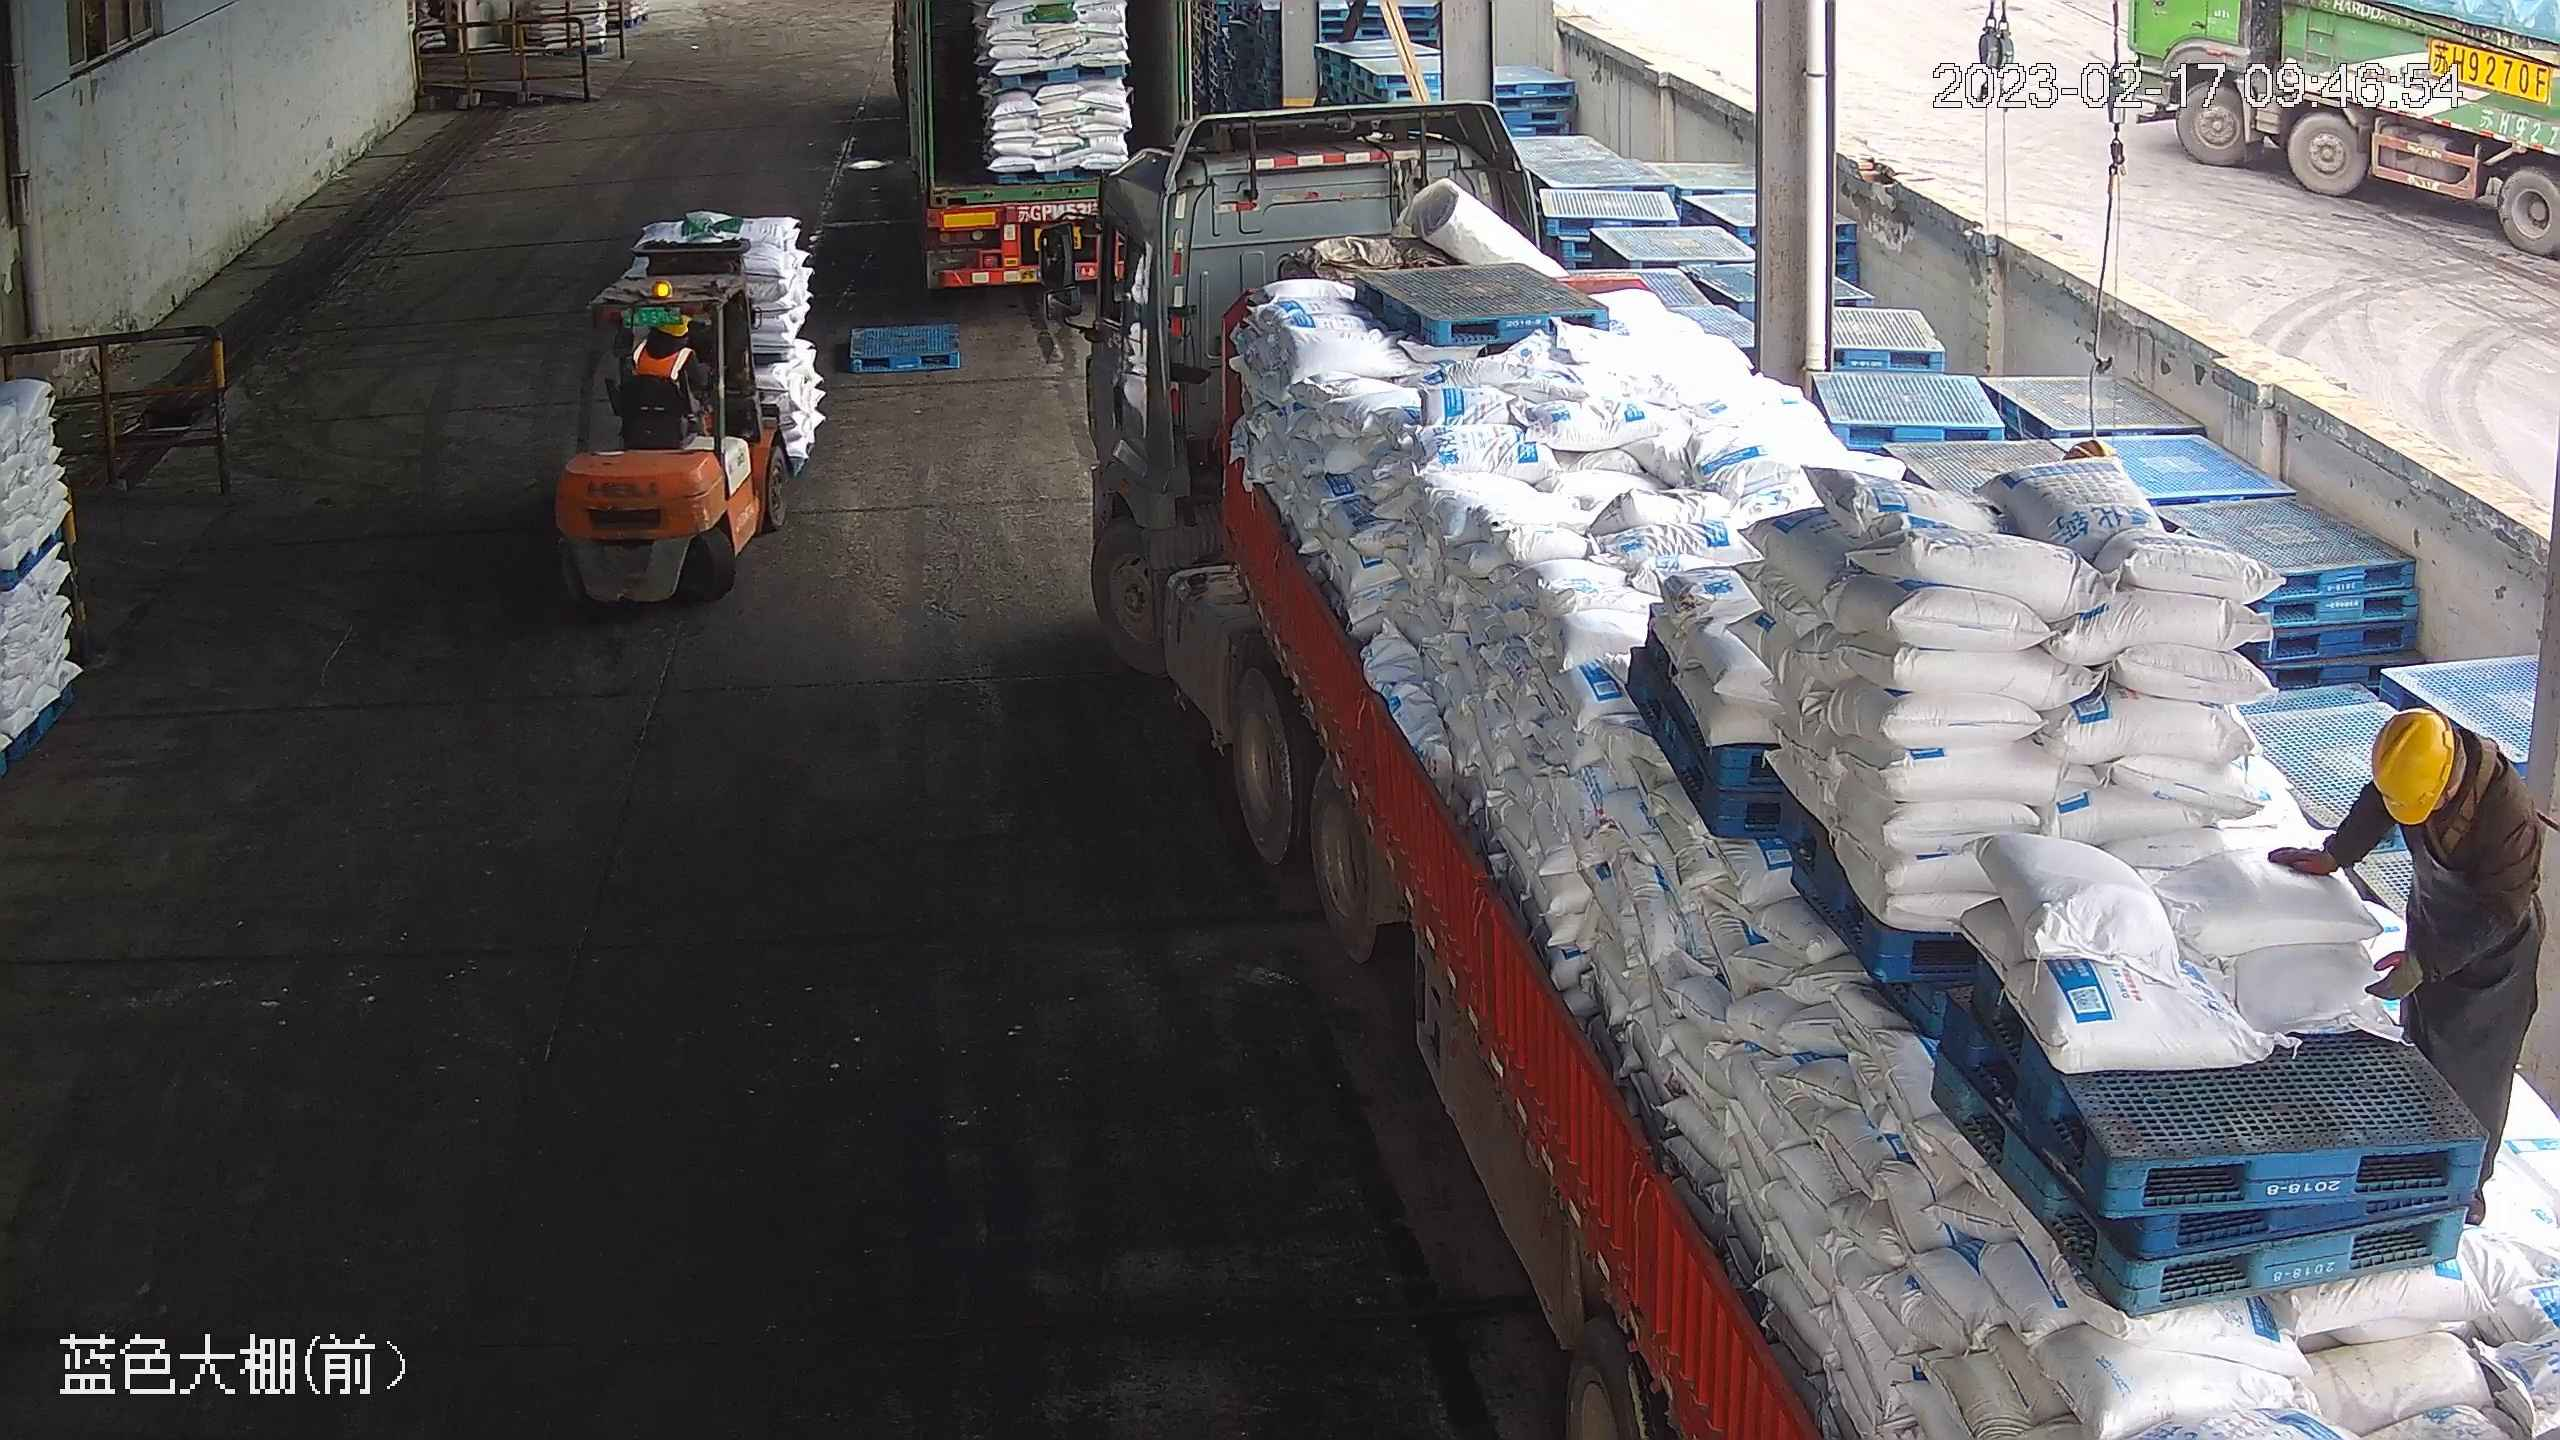belt: (2421, 724, 2503, 866)
head: (2353, 705, 2526, 869), (632, 304, 700, 368)
helmet: (2365, 706, 2462, 825)
people: (2268, 699, 2545, 1211)
truck: (1092, 88, 2548, 1438), (883, 4, 1220, 306)
